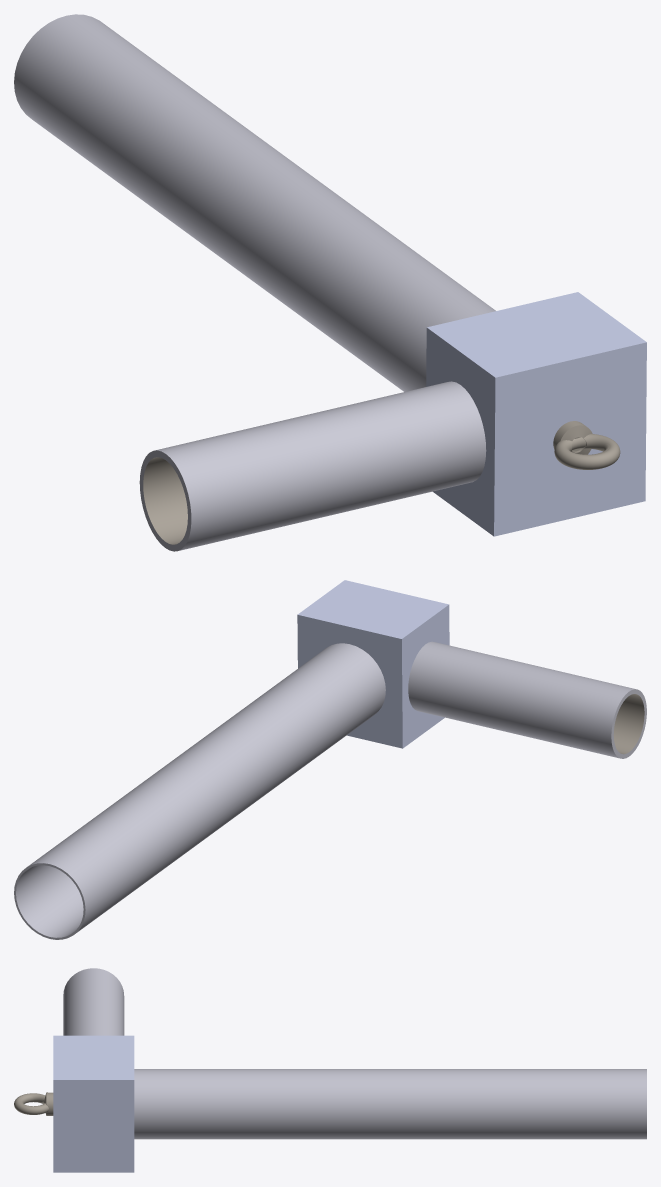
3 renders of one model, top to bottom at view 1: azimuth 30°, elevation 25°; view 2: azimuth 150°, elevation 25°; view 3: azimuth 270°, elevation 25°, orthographic. The views are drawn at different scales.
Parts seen in each view (by area): view 1: FBXASC0483, _ncl1_2, _ncl1_4; view 2: FBXASC0483, _ncl1_2, _ncl1_4; view 3: FBXASC0483, _ncl1_2, _ncl1_4.
Part boxes in pixels (<box>): FBXASC0483: <box>14,14,495,551</box>; _ncl1_2: <box>426,292,646,536</box>; _ncl1_4: <box>143,421,620,544</box>; FBXASC0483: <box>14,641,646,939</box>; _ncl1_2: <box>297,580,449,748</box>; _ncl1_4: <box>613,694,644,754</box>; FBXASC0483: <box>63,968,646,1139</box>; _ncl1_2: <box>53,1035,134,1172</box>; _ncl1_4: <box>14,1092,53,1115</box>.
Bounding box in the file's own units: 1.3 × 0.4442 × 2.71.
